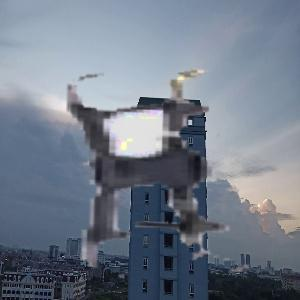drone: (24, 49, 274, 299)
